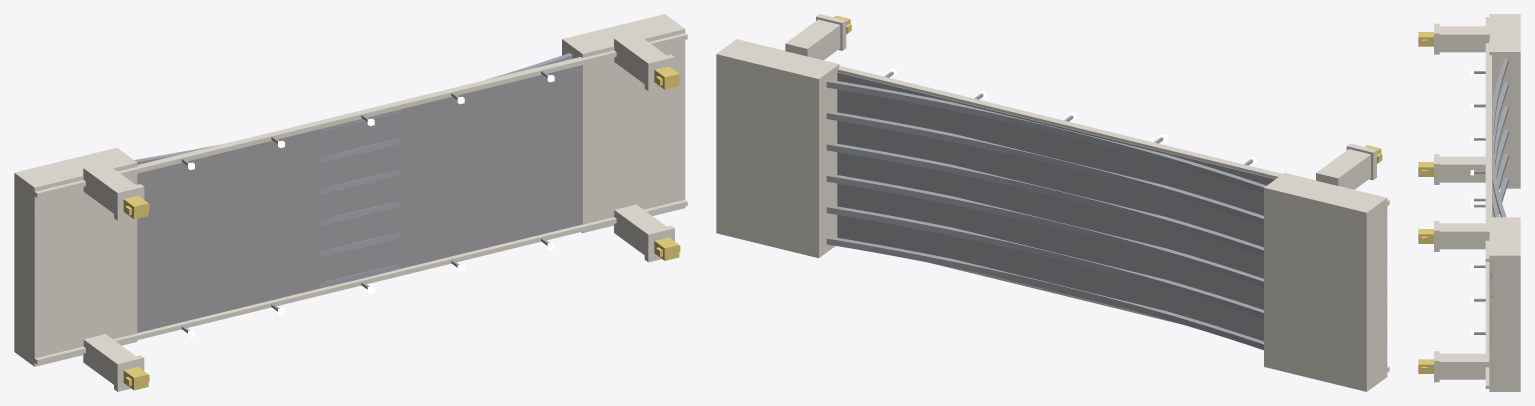
File: pont_alexandre_iii.glb
3 views of the same model, side by side, from view 1: azimuth 30°, elevation 25°; view 2: azimuth 150°, elevation 25°; view 3: azimuth 270°, elevation 25° (orthographic). The views are drawn at different scales.
Parts seen in each view (by area): view 1: PontAlexandreIII; view 2: PontAlexandreIII; view 3: PontAlexandreIII.
Part boxes in pixels (x1,y1,x2,y2): PontAlexandreIII: [14, 14, 687, 391]; PontAlexandreIII: [716, 14, 1389, 391]; PontAlexandreIII: [1418, 14, 1520, 391].
Bounding box in the file's own units: 152 × 44.4 × 27.2.
